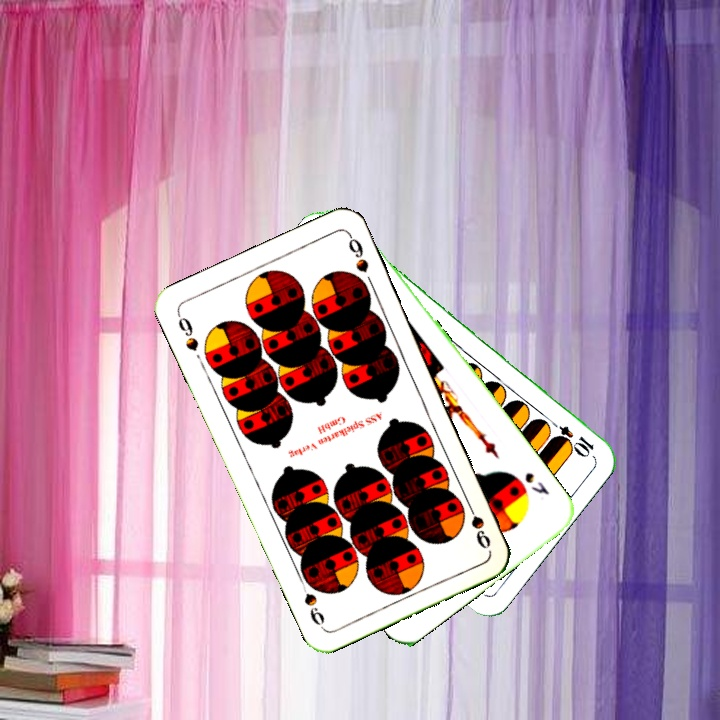E10: (543, 415, 597, 459)
S9: (462, 496, 493, 552), (173, 309, 202, 354)
SK: (520, 468, 552, 498)
